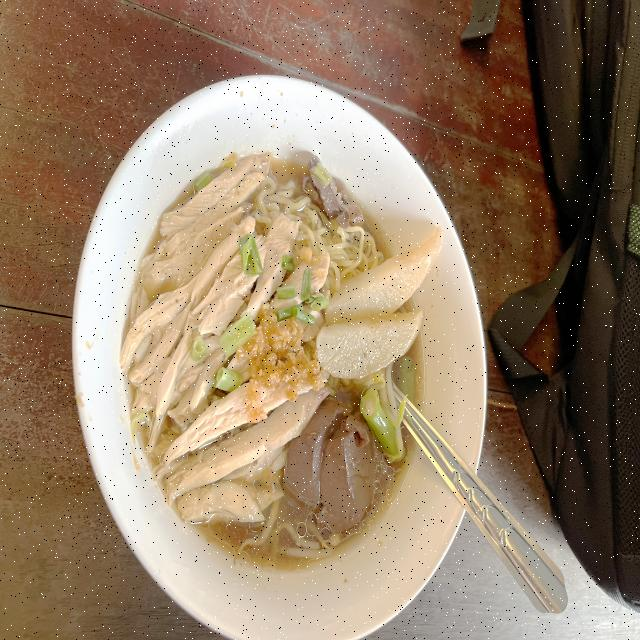boiled_chicken_blood_jelly: (300, 401, 364, 507)
chicken_shredded: (131, 166, 298, 509)
daikon_radish: (328, 229, 443, 320), (318, 313, 427, 370)
noodle: (114, 142, 460, 577)
